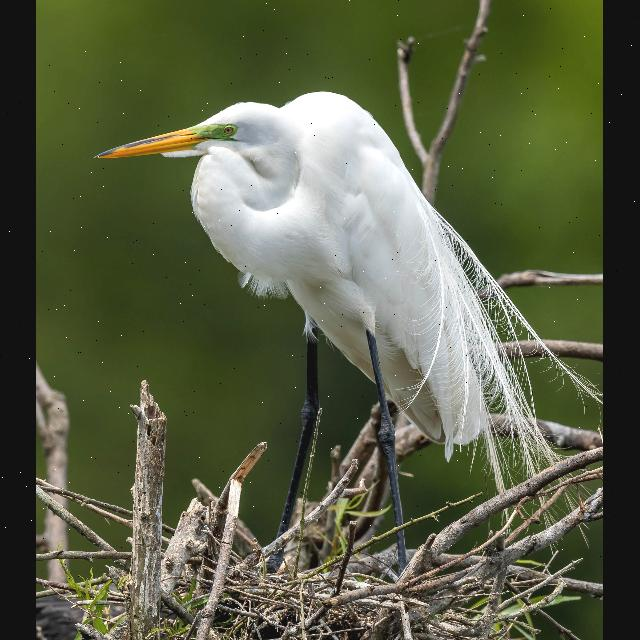egret: (76, 84, 578, 510)
